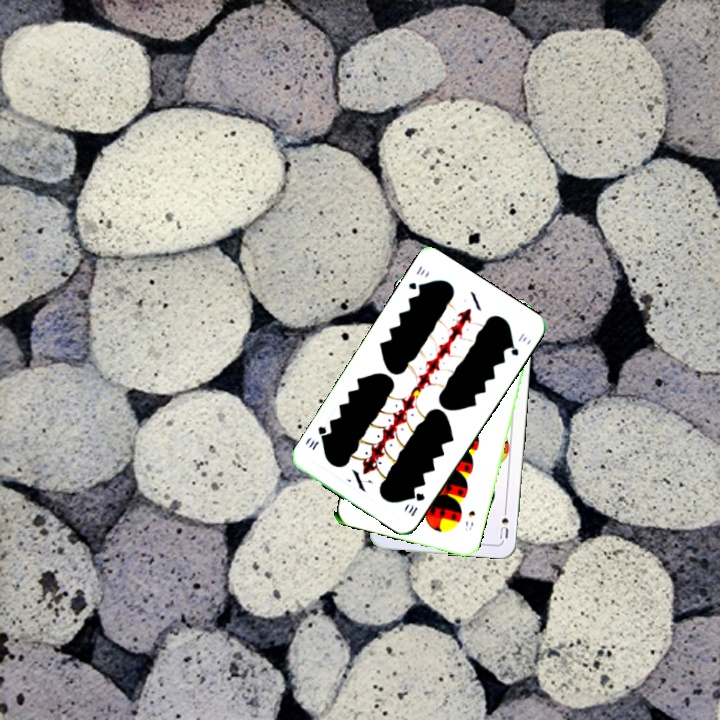G10: (404, 261, 428, 294), (403, 488, 427, 519)
S8: (461, 507, 478, 533)
SU: (496, 502, 511, 542)
